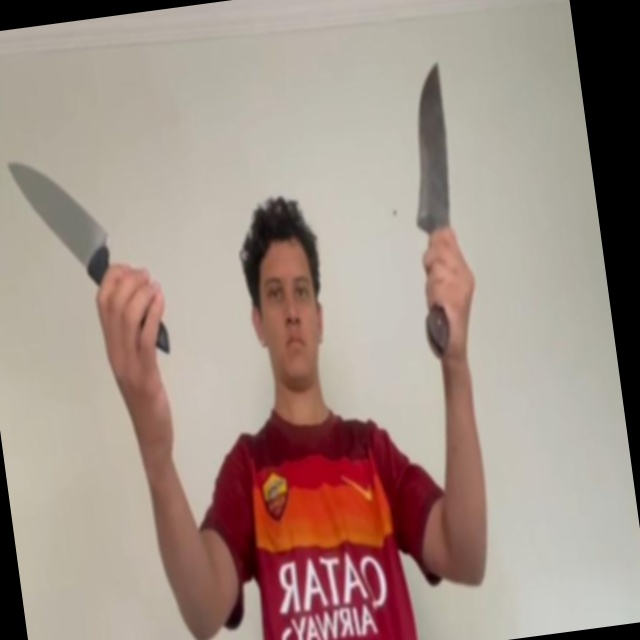Sharp-Object: (5, 143, 111, 261), (398, 63, 461, 226)
